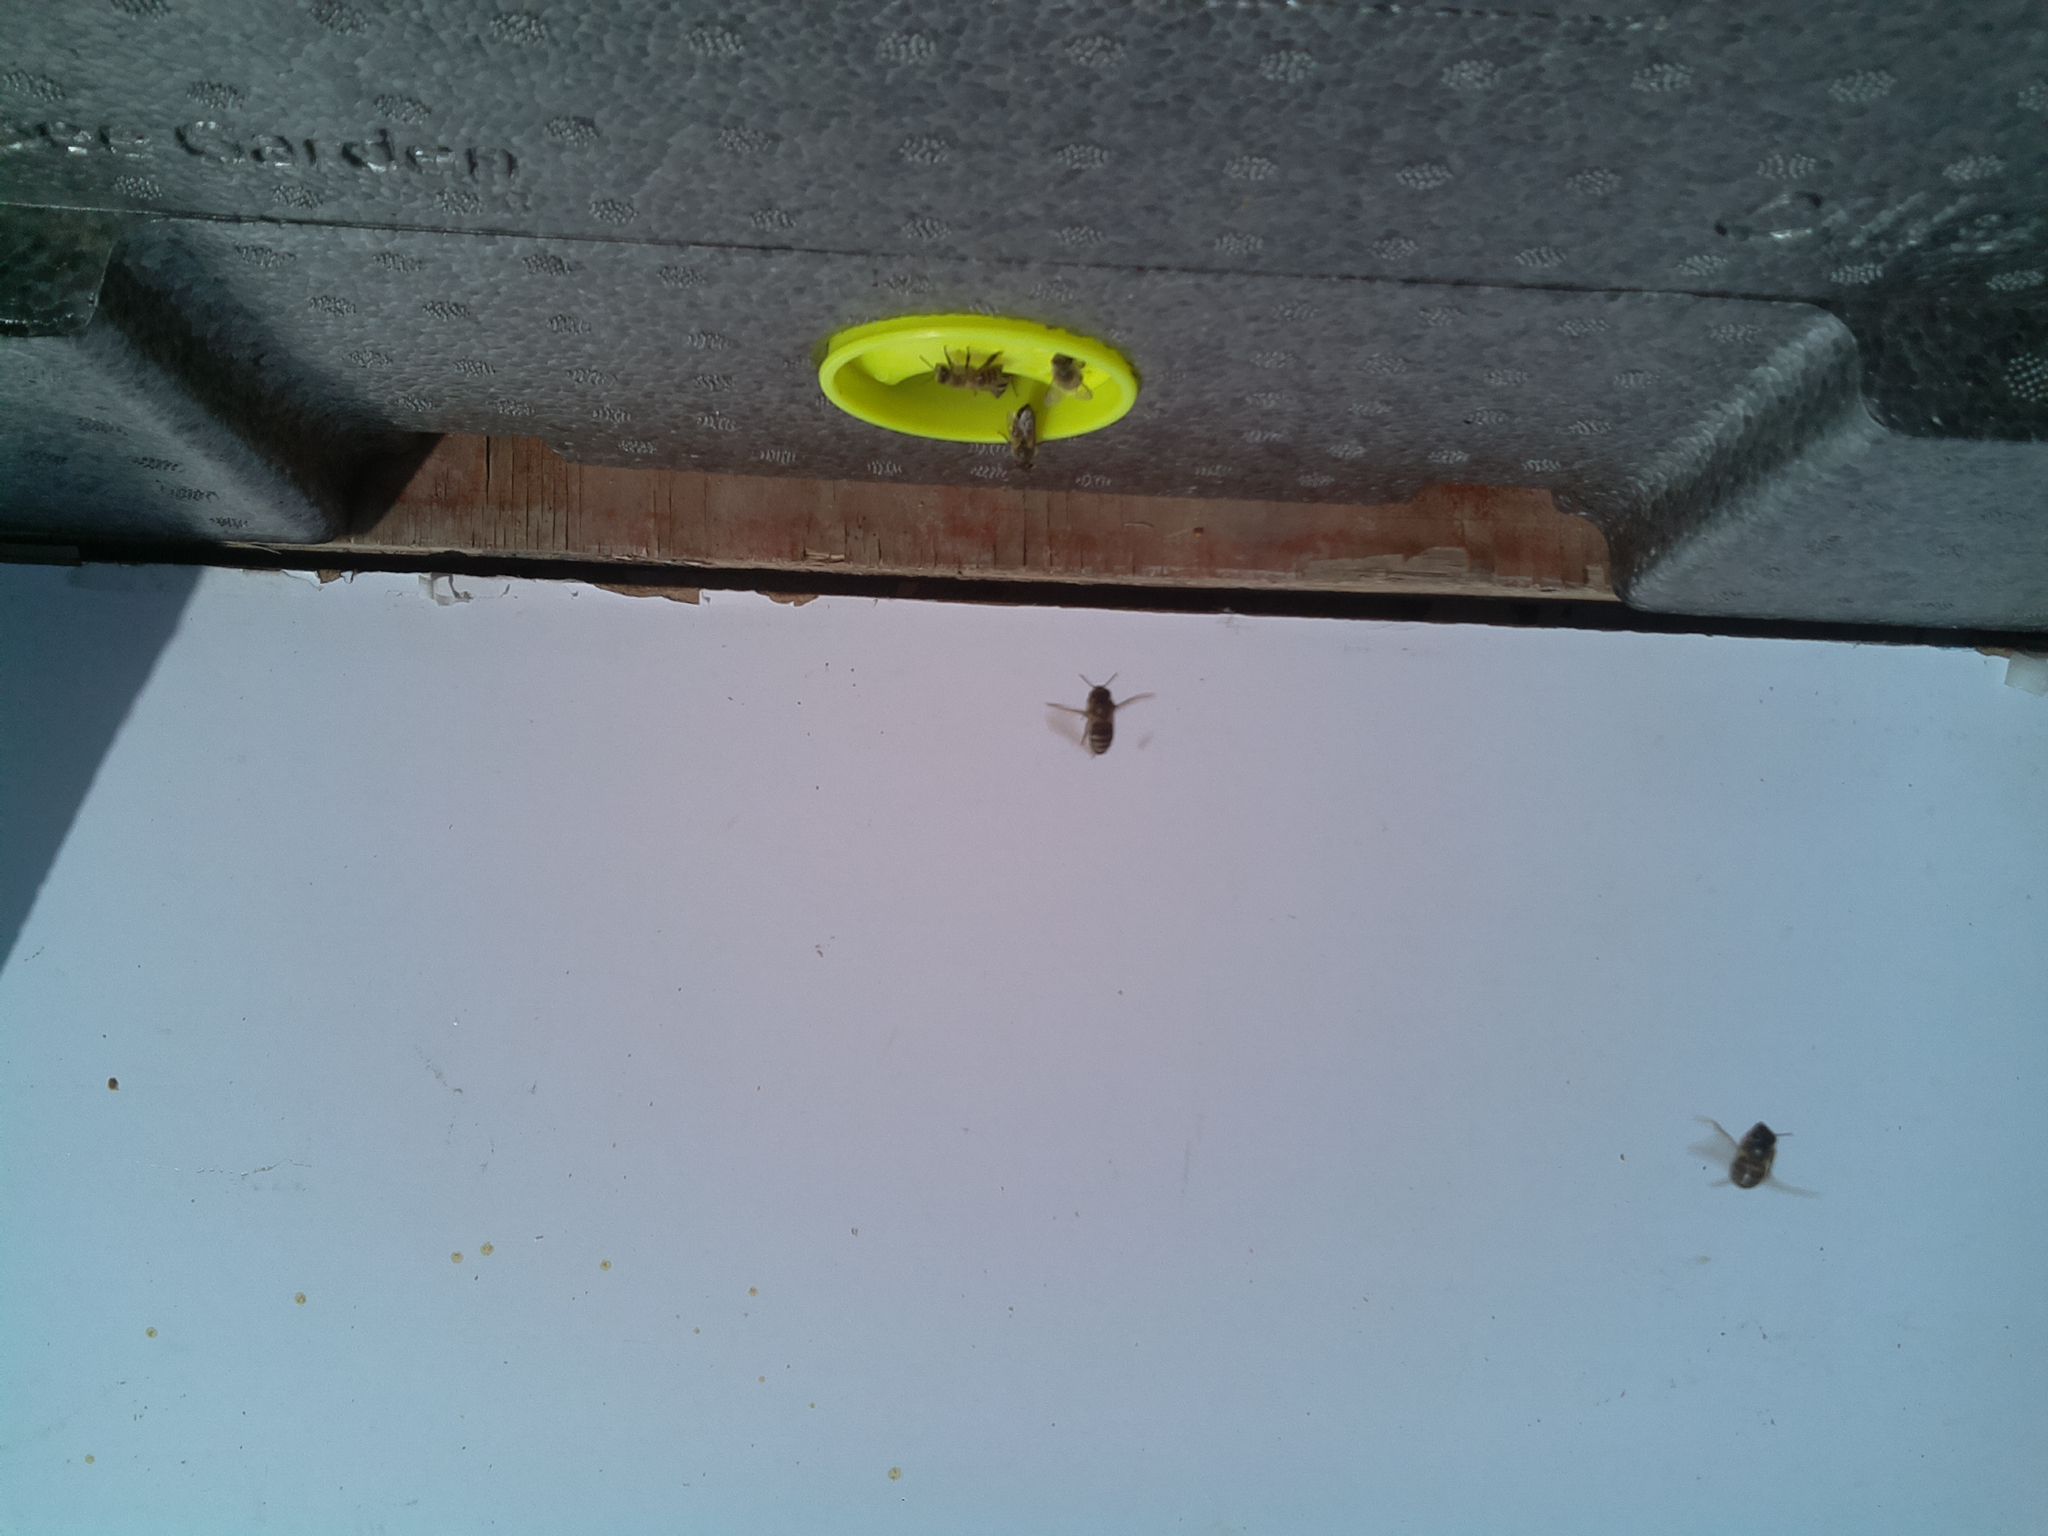bee: (925, 350, 1012, 398), (1724, 1118, 1777, 1192), (1081, 683, 1119, 757), (1006, 403, 1041, 471)
